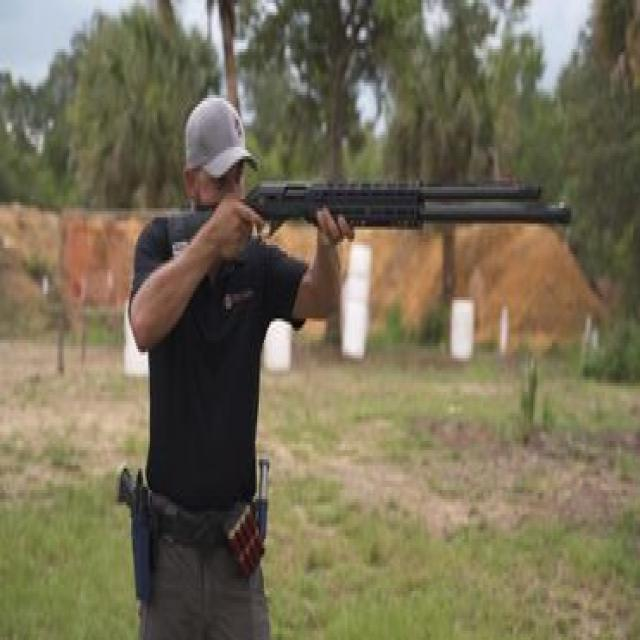HandGun: (117, 472, 155, 609)
ShotGun: (165, 181, 574, 249)
